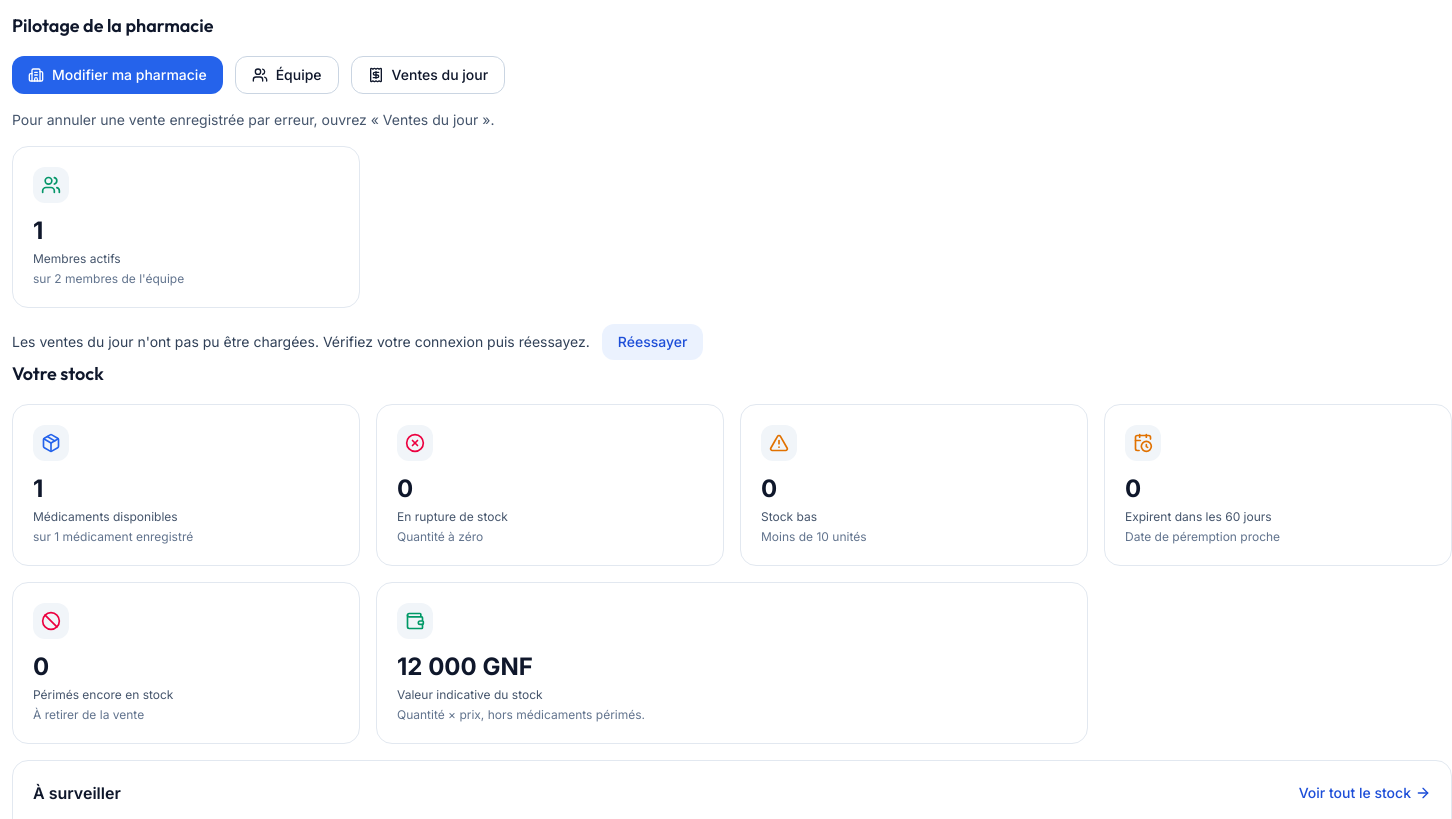
Scenario: Pilotage de la pharmacie › garde le stock quand les ventes échouent, puis les recharge au clic sur Réessayer
The width and height of the screenshot is (1452, 819).
Check: the message shows "Les ventes du jour n'ont pas pu être chargées. Vérifiez votre connexion puis réessayez.", box top-left (12, 333), bottom-right (590, 350)
Check: the element "Encaissé aujourd'hui" is not shown
Click the button "Réessayer" at (653, 342), box top-left (602, 324), bottom-right (703, 360)
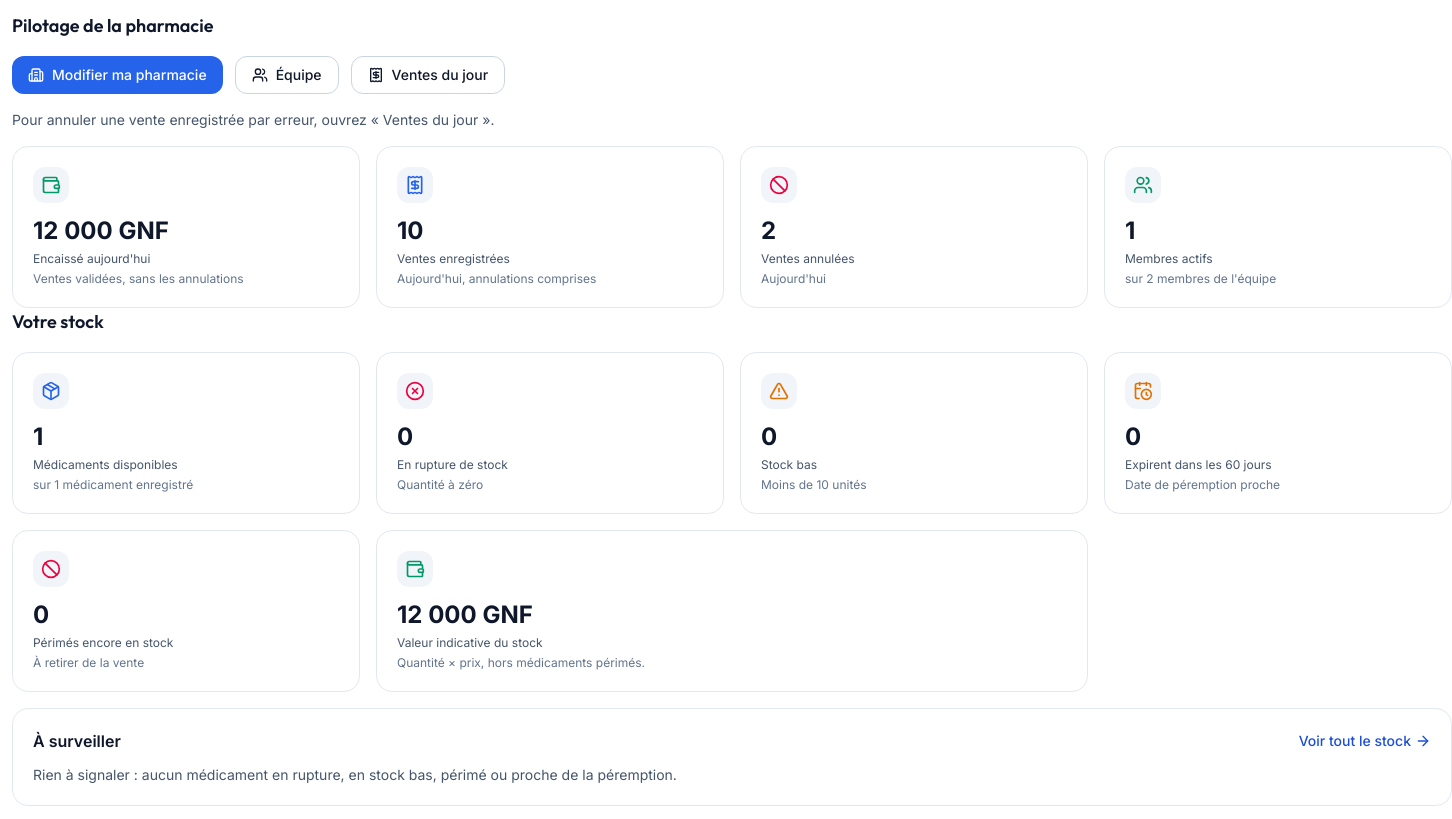
Check: the text "10" is shown, box top-left (397, 216), bottom-right (424, 245)
Check: the message is gone
